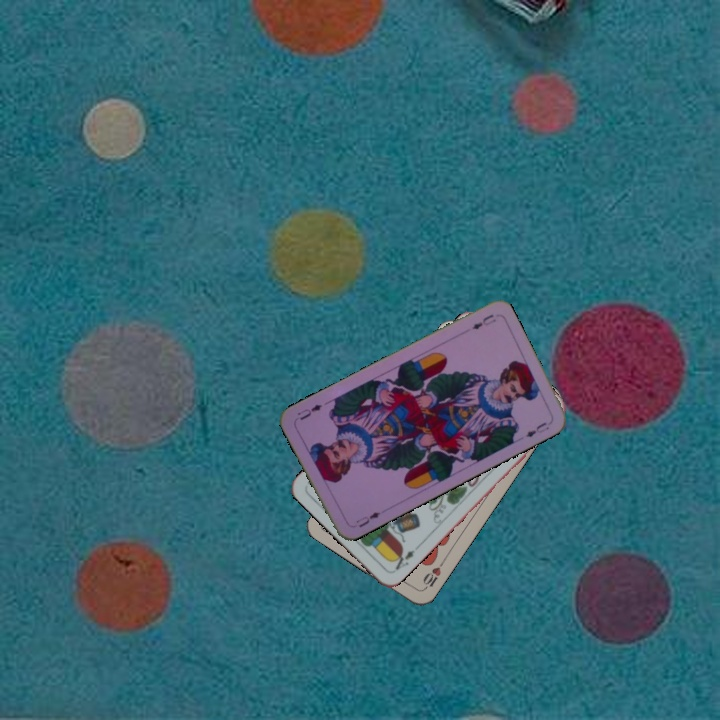EA: (387, 546, 417, 575)
EU: (467, 310, 499, 332), (352, 508, 383, 530)
H10: (418, 557, 446, 593)
